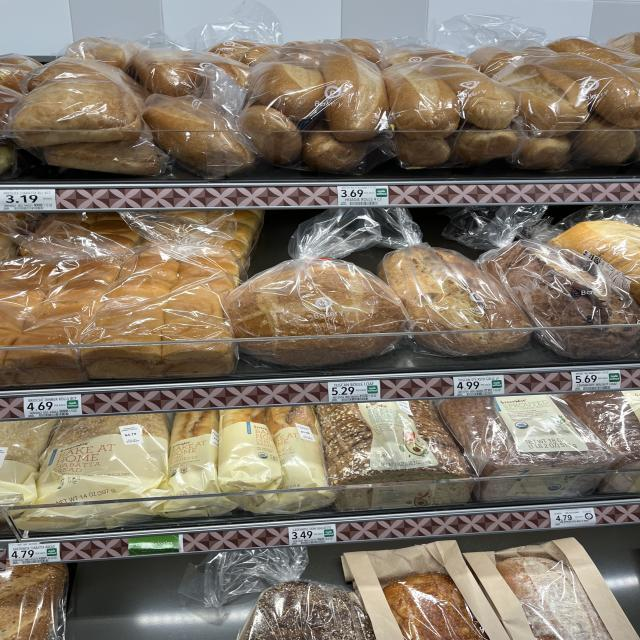Bread: (225, 208, 407, 366), (478, 240, 640, 359), (7, 56, 168, 175), (378, 208, 530, 332), (438, 395, 615, 501), (178, 546, 375, 640), (465, 538, 638, 640), (315, 400, 472, 510), (342, 540, 510, 640), (82, 275, 235, 379), (135, 49, 257, 179), (470, 40, 588, 170), (295, 42, 392, 174), (35, 414, 170, 504), (383, 41, 472, 169), (545, 52, 640, 166), (548, 205, 640, 305), (240, 61, 325, 165), (12, 264, 108, 348), (0, 231, 132, 292), (567, 390, 640, 492), (120, 210, 263, 262), (108, 244, 245, 298), (218, 408, 282, 492), (0, 564, 68, 640), (267, 405, 328, 489), (0, 419, 58, 505), (168, 410, 220, 495), (15, 502, 153, 531), (50, 212, 143, 248), (2, 348, 83, 385), (413, 331, 530, 356), (155, 498, 237, 518), (272, 491, 335, 514), (230, 494, 278, 512)
